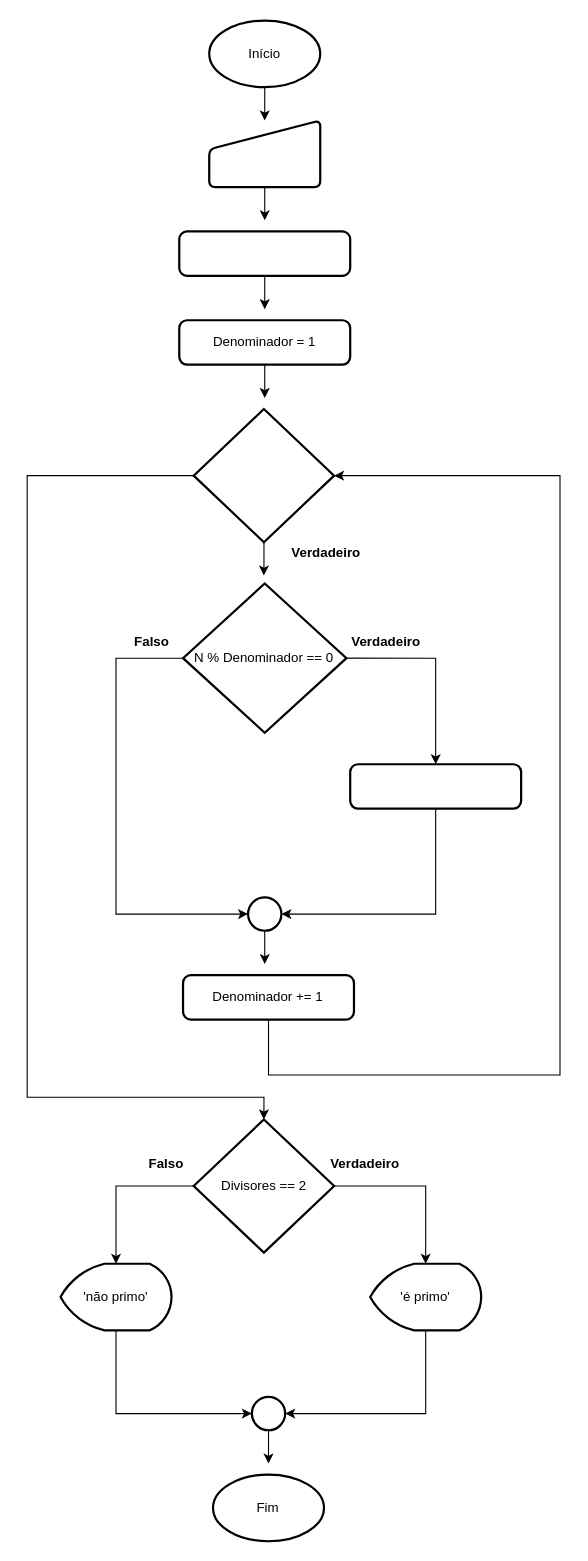
Some shapes in this 588 by 1561 pixel diagram are drawn without their labels. Here are the shapes that lost their labels. From the top down, the box of each, then its label:
(208, 119, 321, 188): N (Int)
(178, 230, 351, 276): Divisores = 0
(192, 407, 335, 543): Denominador <= N
(349, 763, 522, 809): Divisores = Divisores + 1
